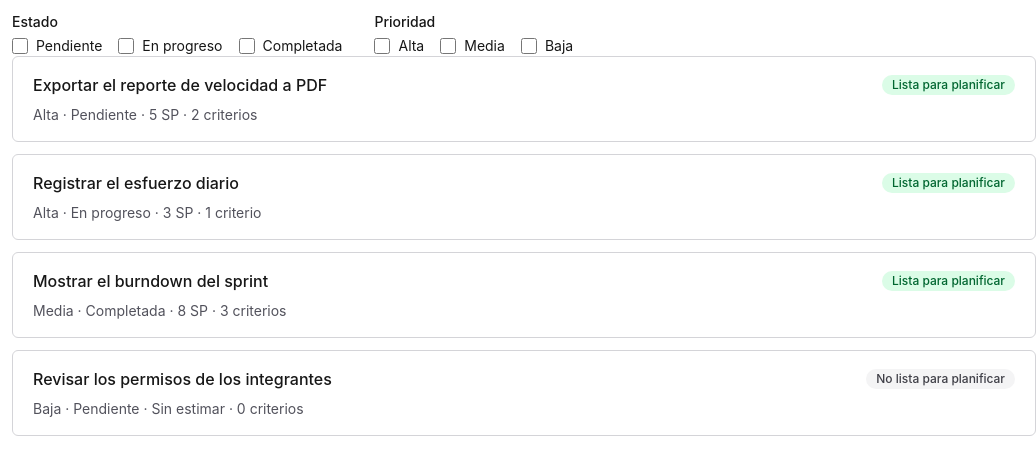
it: 003/US2 - Ver el backlog ordenado y filtrado › Filtro por estado
Check: the list item that starts with "Exportar el reporte de velocidad a PDF" is shown, box [33,75,327,95]
Check: the list item that starts with "Registrar el esfuerzo diario" is shown, box [33,173,239,193]
Click the checkbox labelled "Pendiente" at [20, 46], box [12,38,28,54]
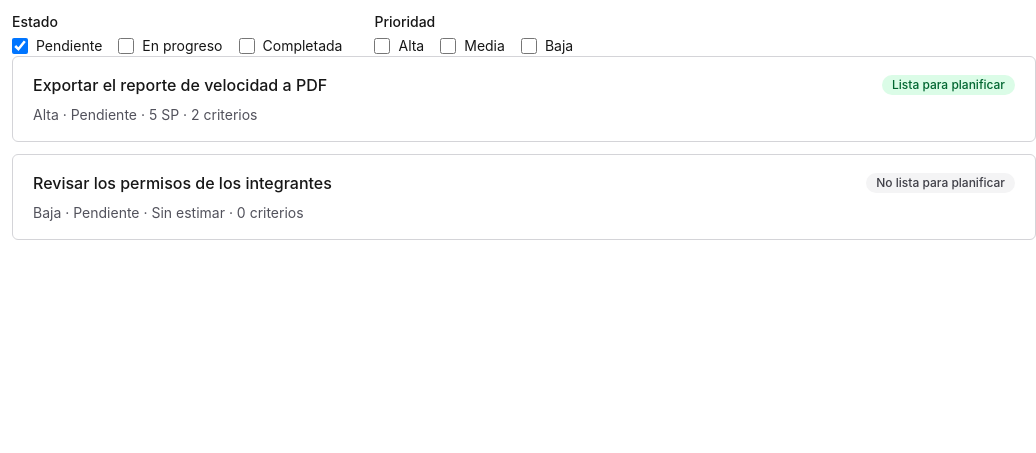
Check: the list item that starts with "Exportar el reporte de velocidad a PDF" is shown, box [33,75,327,95]
Check: the checkbox labelled "Pendiente" is checked, box [12,38,28,54]
Check: the number of list items is 2, box [12,56,1035,142]; [12,154,1035,240]
